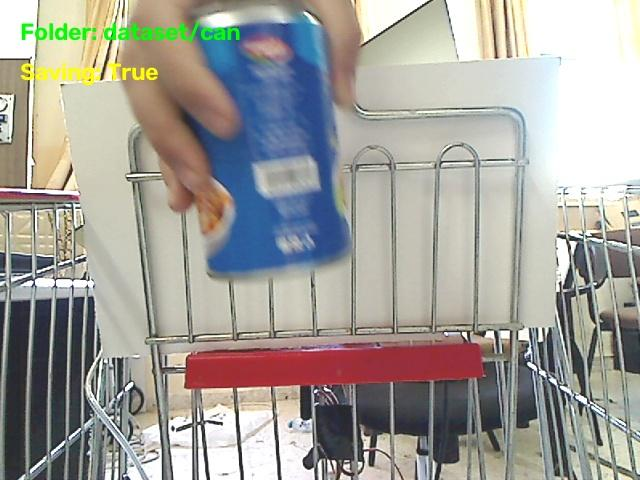can: (193, 0, 350, 277)
